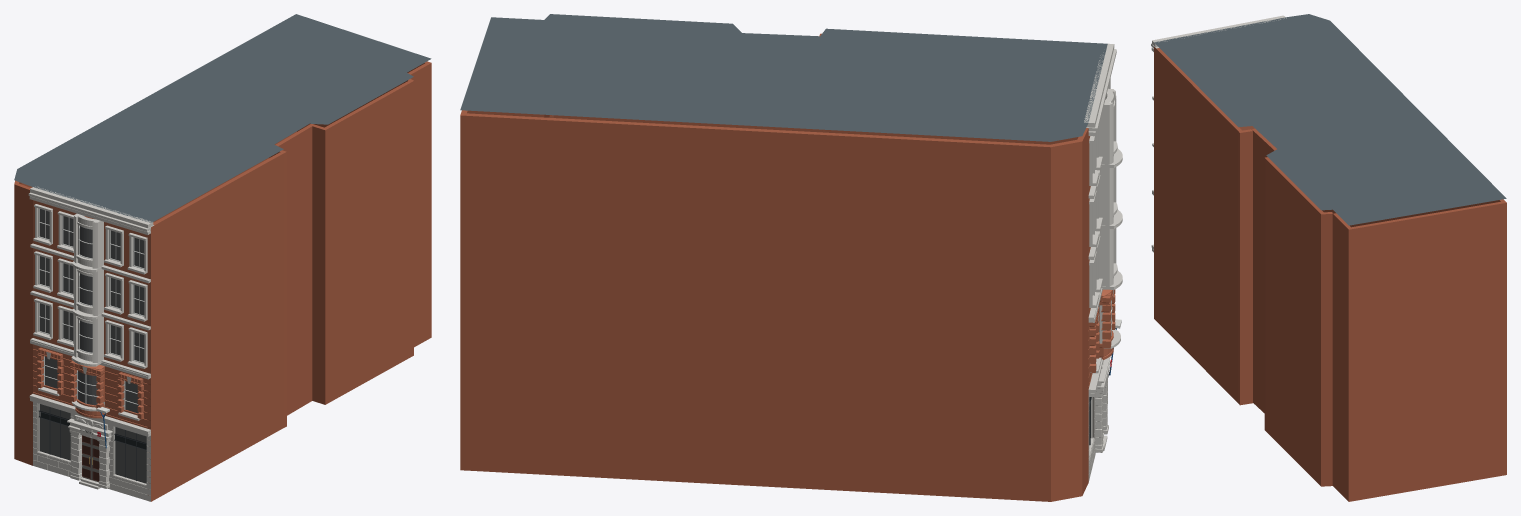
Rendered from ksw-exterior-bbdb97f59bc1.glb.
3 renders of one model, left to right at view 1: azimuth 30°, elevation 25°; view 2: azimuth 150°, elevation 25°; view 3: azimuth 270°, elevation 25°, orthographic. The views are drawn at different scales.
Parts seen in each view (by area): view 1: KSW.001; view 2: KSW.001; view 3: KSW.001.
Boxes of the visible parts, bbox=[...] form: KSW.001: bbox=[14, 14, 431, 501]; KSW.001: bbox=[460, 14, 1122, 501]; KSW.001: bbox=[1151, 14, 1506, 501].
Bounding box in the file's own units: 33.77 × 20.6 × 23.99.
